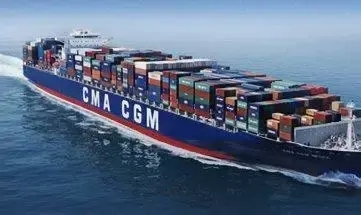Cargoship: (17, 28, 361, 183)
